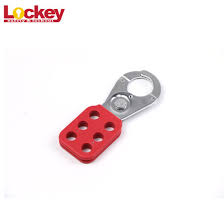hasp: (58, 70, 163, 165)
